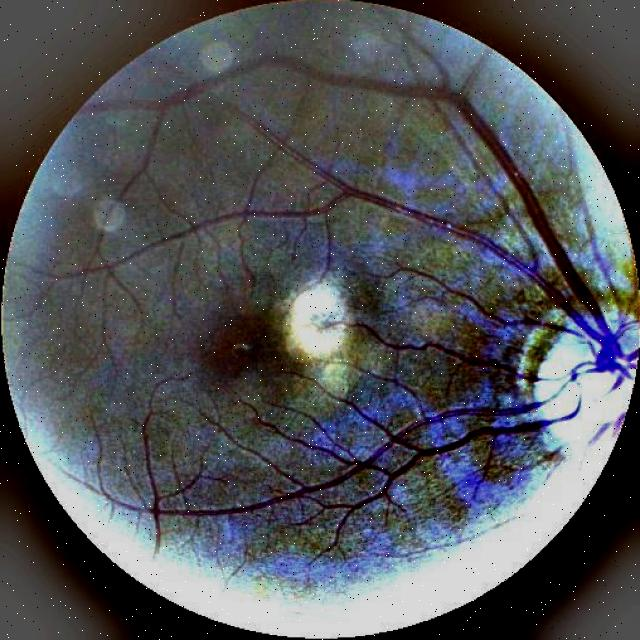Macula: (192, 315, 285, 388)
Nerves: (102, 57, 615, 364), (120, 371, 601, 515)
Optic Disk: (514, 279, 640, 480)
